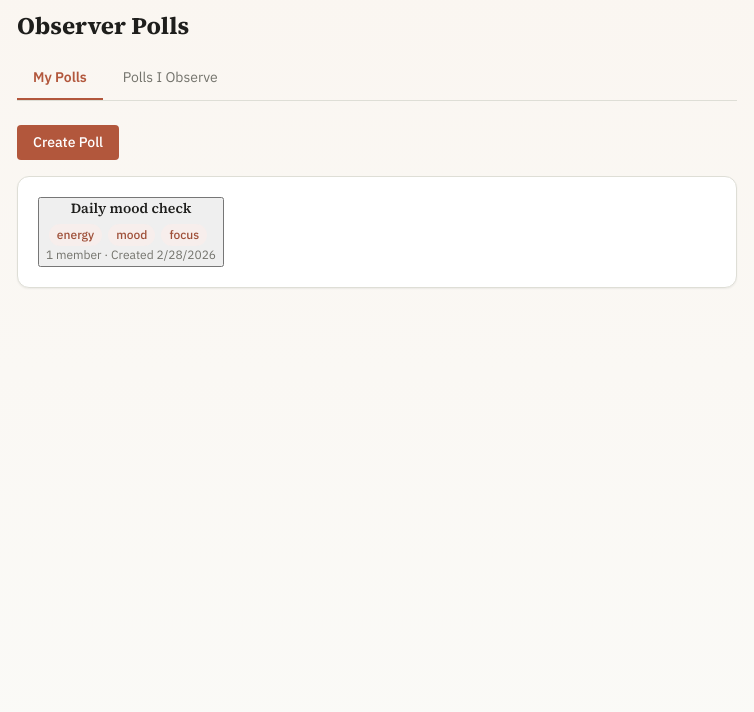
Test: ObserverPolls page › My Polls tab › shows Create Poll button and toggles form
Check: the heading "Daily mood check" is shown, box x1=71 y1=198 x2=191 y2=218
Click the button "Create Poll".
click(68, 143)  # box x1=17 y1=125 x2=119 y2=160
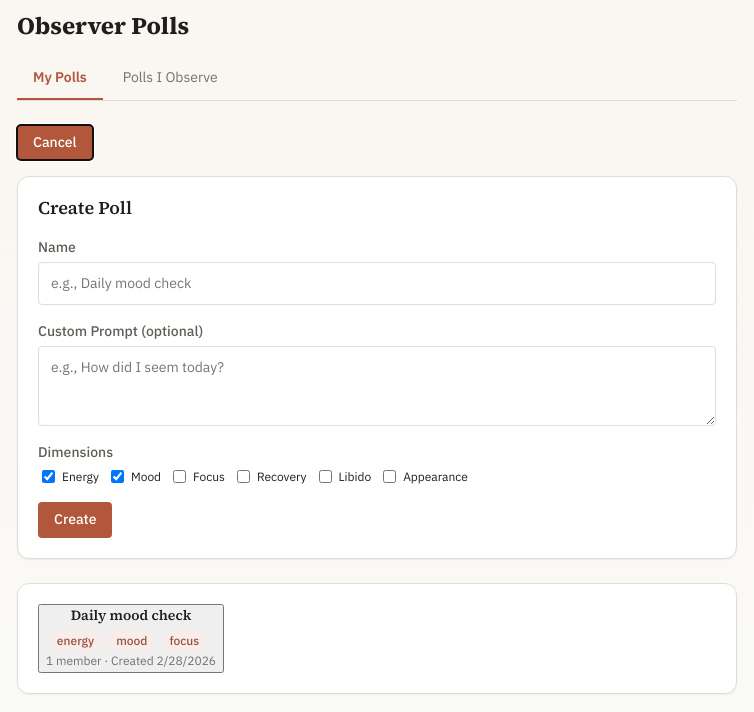
Check: the field labelled "Name" is shown, box x1=38 y1=262 x2=716 y2=305
Check: the text box labelled "Custom Prompt (optional)" is shown, box x1=38 y1=346 x2=716 y2=426
